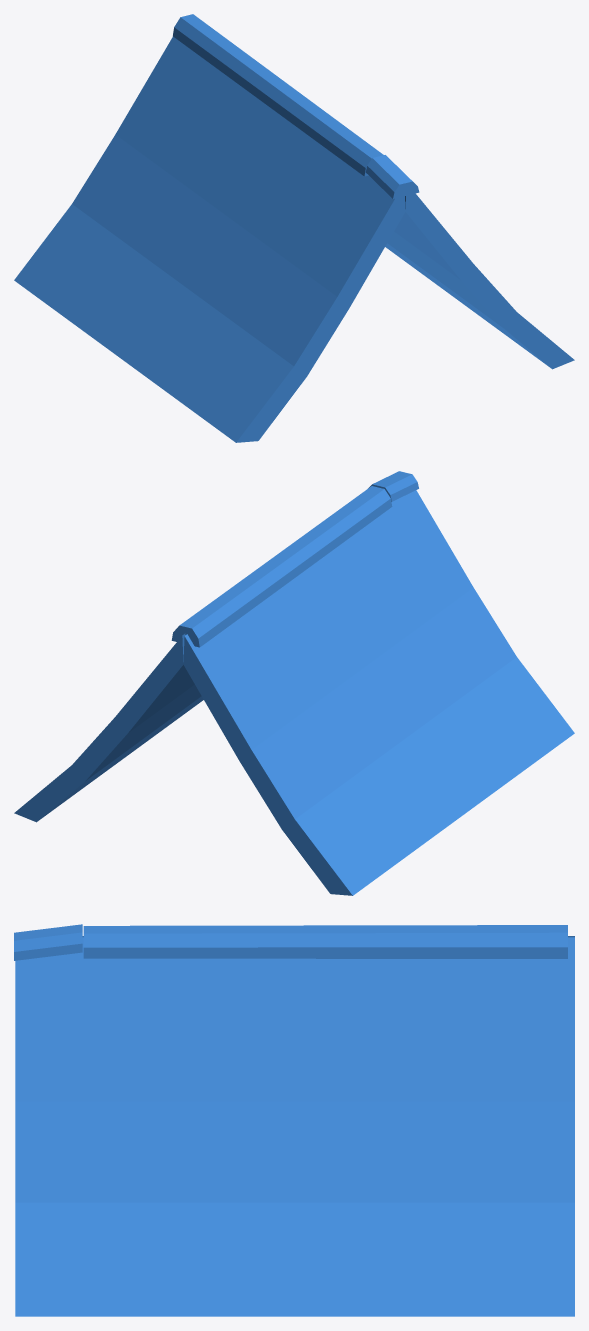
The model's file is Collision_Roof_RoundTiles_6x8.fbx.
The picture shows the model from 3 angles, top to bottom: view 1: azimuth 30°, elevation 25°; view 2: azimuth 150°, elevation 25°; view 3: azimuth 270°, elevation 25°; orthographic projection. The views are drawn at different scales.
Visible parts, largest first — view 1: UCX_Roof_RoundTiles_6x8_01; view 2: UCX_Roof_RoundTiles_6x8_01; view 3: UCX_Roof_RoundTiles_6x8_01.
Part boxes in pixels (x1,y1,x2,y2): UCX_Roof_RoundTiles_6x8_01: [14, 14, 574, 442]; UCX_Roof_RoundTiles_6x8_01: [14, 471, 574, 895]; UCX_Roof_RoundTiles_6x8_01: [14, 924, 574, 1316].
Bounding box in the file's own units: 861 × 557 × 980.
